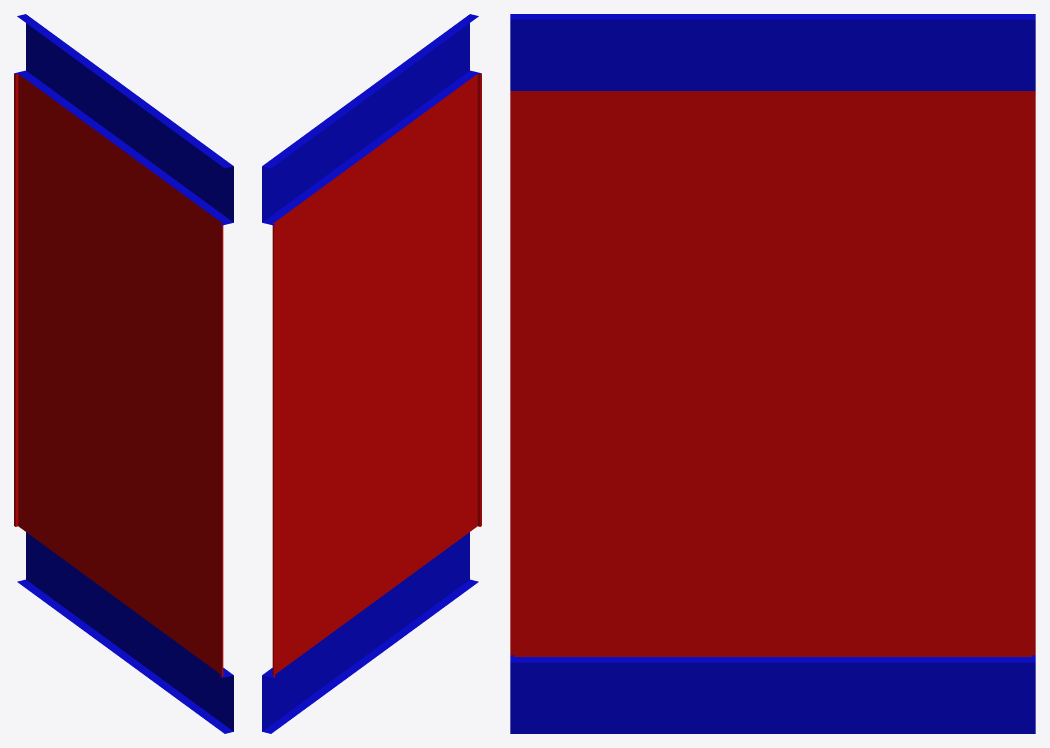
The model's file is block2.fbx.
3 views of the same model, side by side, from view 1: azimuth 30°, elevation 25°; view 2: azimuth 150°, elevation 25°; view 3: azimuth 270°, elevation 25° (orthographic). The views are drawn at different scales.
Parts seen in each view (by area): view 1: muro_block2; view 2: muro_block2; view 3: muro_block2.
Part boxes in pixels (left/top/right/bottom): muro_block2: left=14, top=14, right=233, bottom=733; muro_block2: left=262, top=14, right=481, bottom=733; muro_block2: left=510, top=14, right=1035, bottom=733.
Bounding box in the file's own units: 6.58 × 300 × 200.
